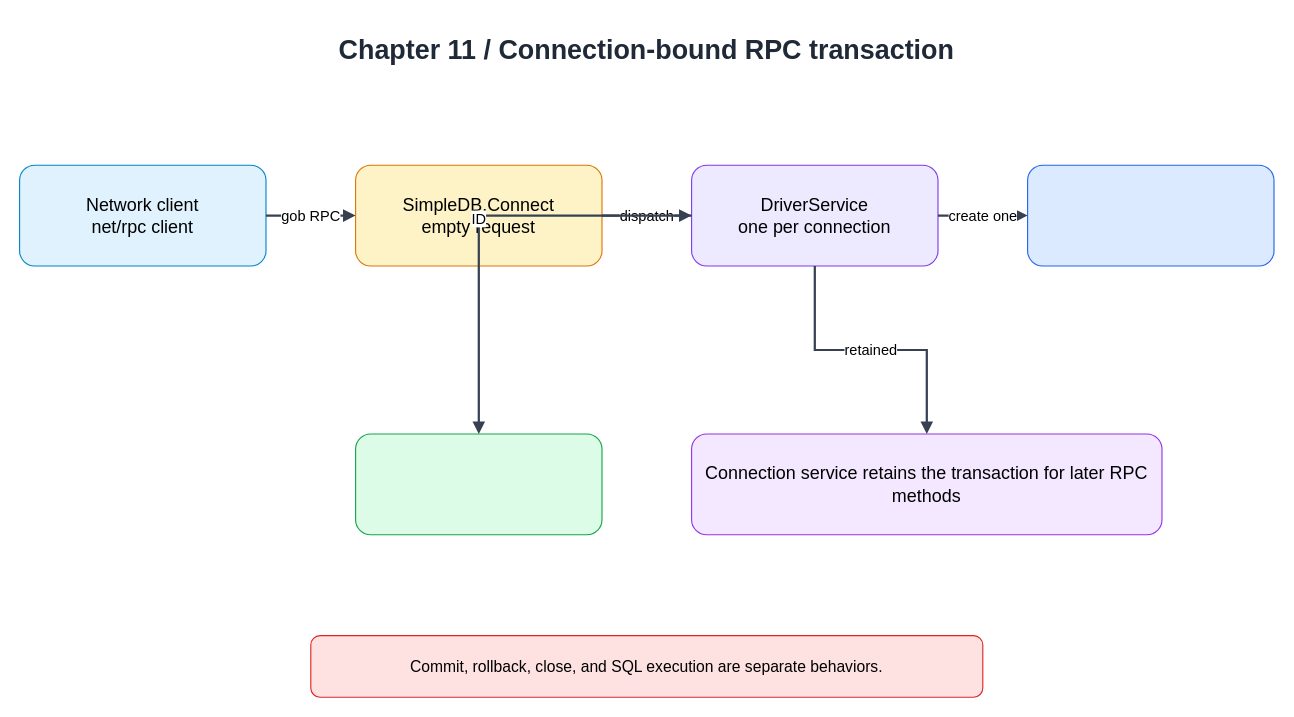
The diagram is 1294 pixels wide and 717 high, and some of its shapes have lost their labels. The shapes that lost their labels are listed below. From the top down, each one's box as (x1, y1, x2, y2) in pixels, then its label:
(1026, 164, 1274, 266): Managers.NewTransaction append START record
(354, 433, 602, 535): ConnectResponse transaction ID
